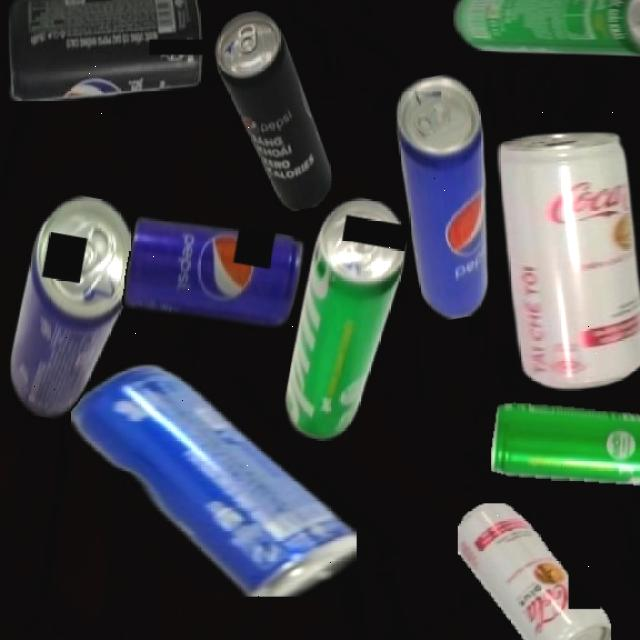debris: (70, 363, 357, 597), (495, 129, 640, 390), (279, 191, 414, 449), (1, 189, 146, 428), (384, 70, 514, 323), (209, 3, 337, 219), (119, 209, 307, 337), (458, 502, 611, 640), (7, 0, 203, 101), (490, 401, 640, 487), (452, 0, 640, 58)
